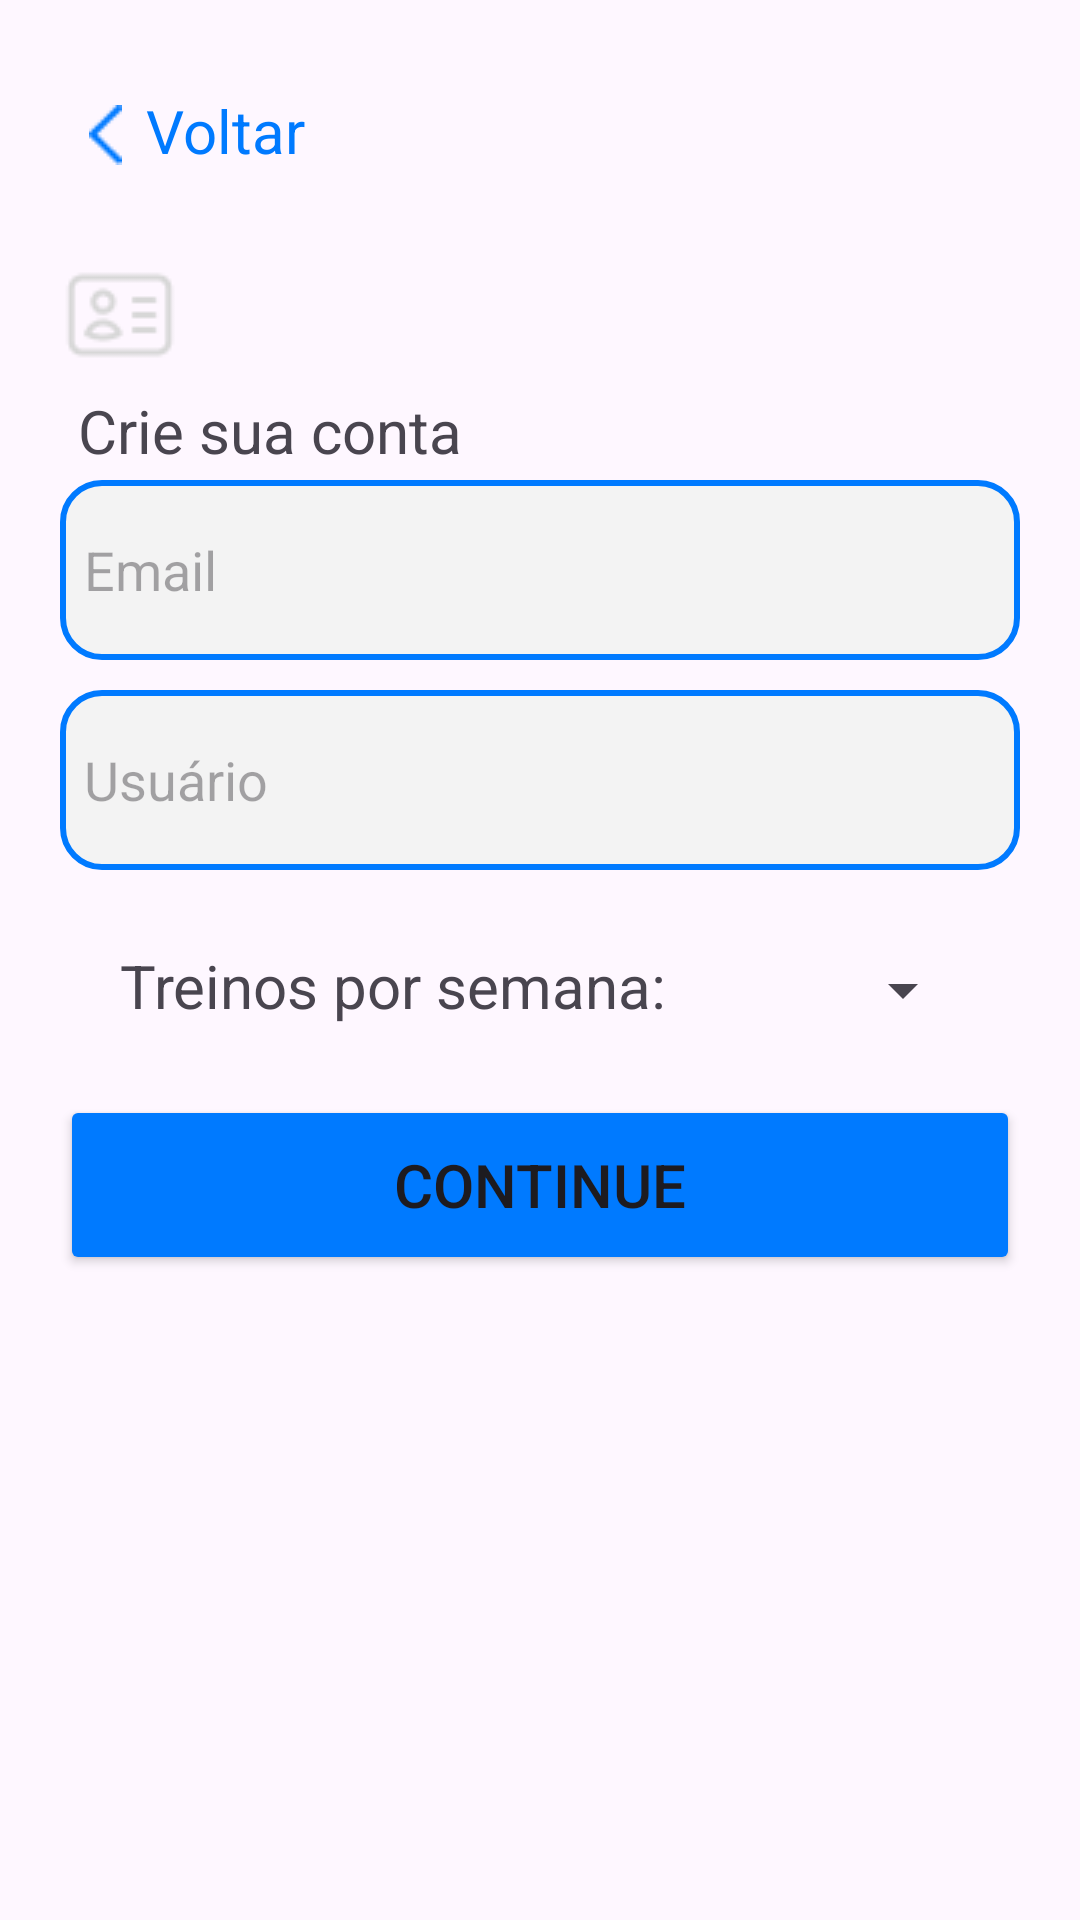

Named icons in this screenshot (1080×1920) and their centers, (x,y):
detalhes: (120,315)
